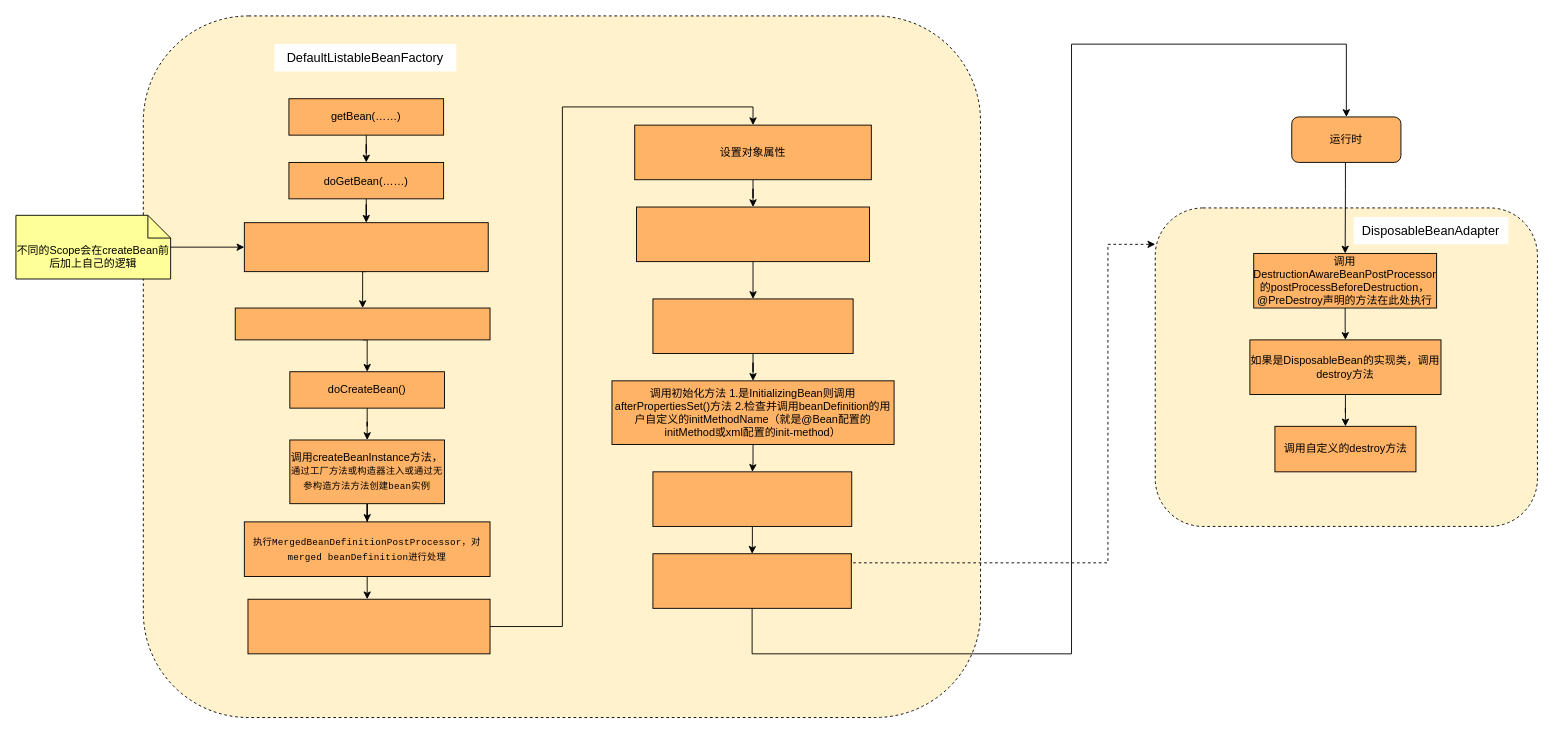
Some shapes in this 1553 by 733 pixel diagram are drawn without their labels. Here are the shapes that lost their labels. From the top down, the box of each, then its label:
(243, 222, 488, 272): createBean()
(636, 206, 870, 262): 检查Aware相关接口并设置相关依赖
(234, 307, 490, 340): InstantiationAwareBeanPostProcessor前置处理
(652, 298, 853, 354): 执行BeanPostProcessor的postProcessBeforeInitialization
(652, 471, 852, 526): BeanPostProcessor的 postProcessAfterInitialization
(652, 553, 851, 608): 将实例bean包裹到DisposableBeanAdapter并注册到disposable bean集合
(247, 598, 490, 654): 执行InstantiationAwareBeanPostProcessor后置处理
